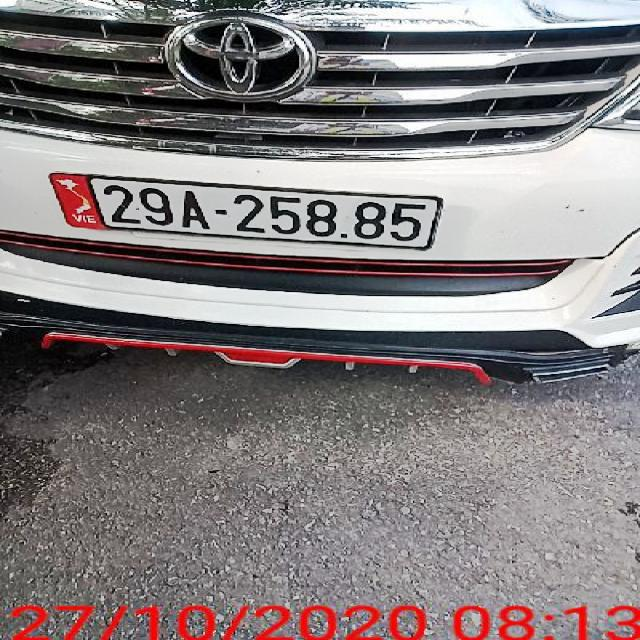license_plate: (51, 172, 445, 252)
